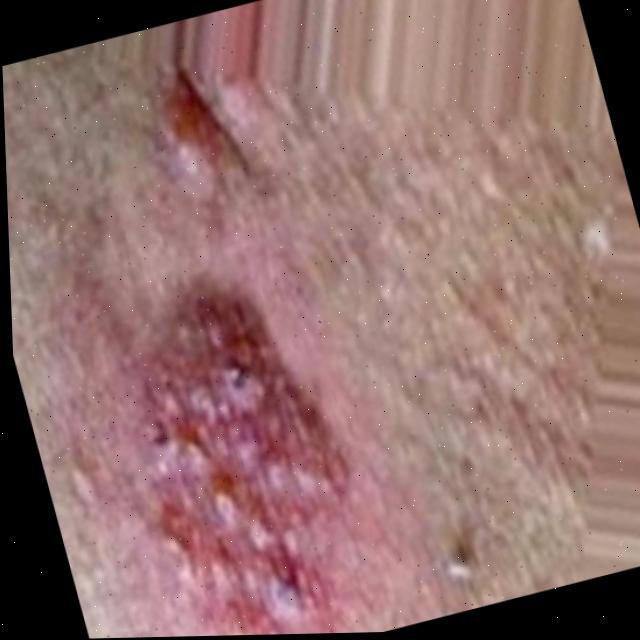Shingles: (97, 270, 364, 638), (144, 80, 248, 202)
